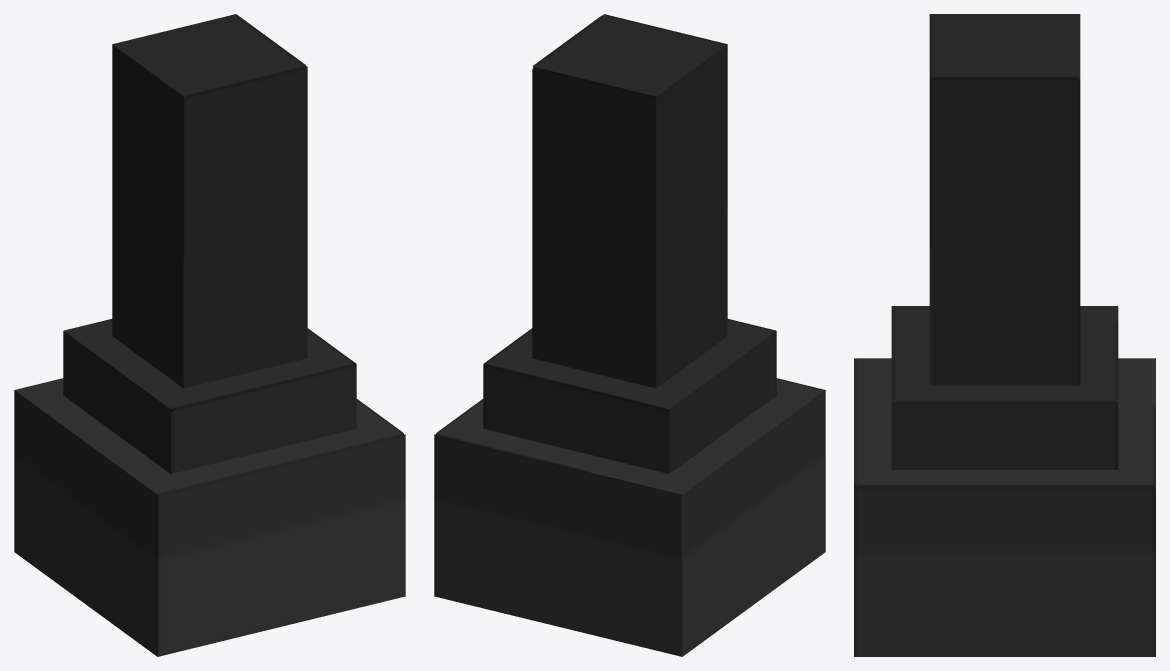
File: linterna.obj
3 renders of one model, left to right at view 1: azimuth 30°, elevation 25°; view 2: azimuth 150°, elevation 25°; view 3: azimuth 270°, elevation 25°, orthographic. The views are drawn at different scales.
Parts seen in each view (by area): view 1: cube; view 2: cube; view 3: cube.
Boxes of the visible parts, left/top/right/bottom form: cube: left=14, top=14, right=405, bottom=656; cube: left=434, top=14, right=825, bottom=656; cube: left=854, top=14, right=1155, bottom=656.
Size of the model in its own units: 0.5 by 1 by 0.5.
1 material, 1 textured.
